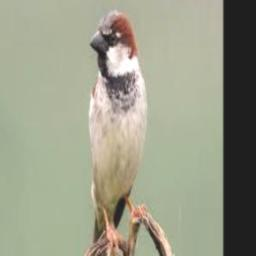Sparrow: (87, 9, 148, 256)
